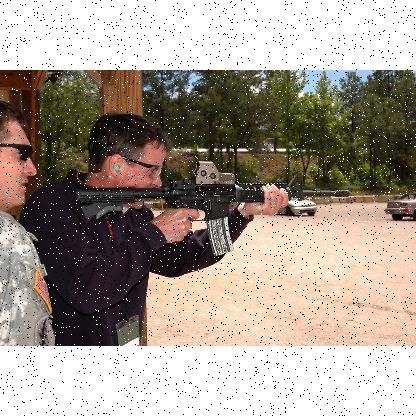gun: (75, 162, 348, 252)
